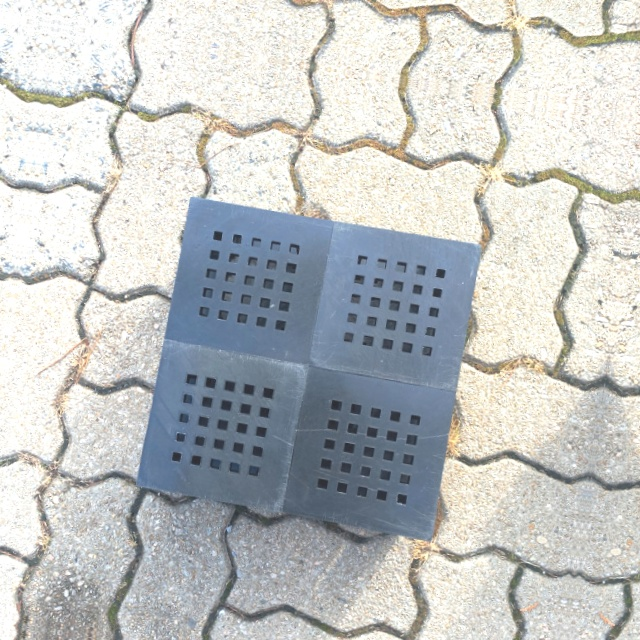pallet: (125, 184, 493, 550)
